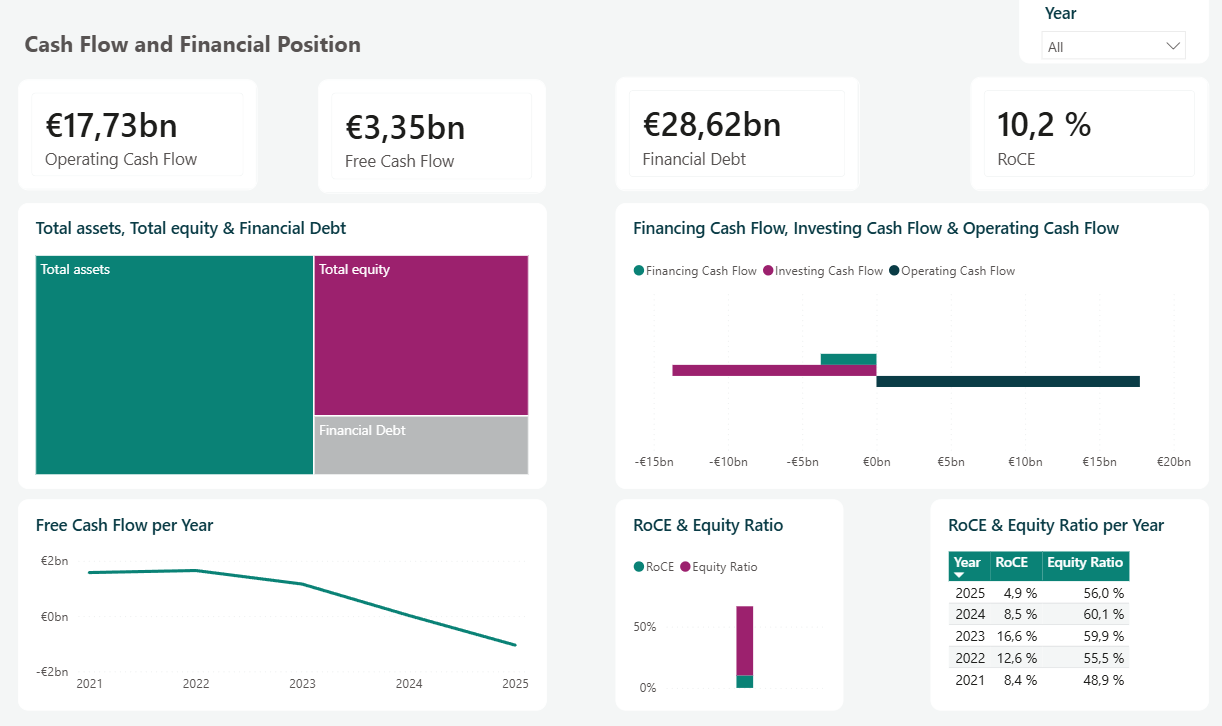

The dashboard page shown, as its layout file describes it:
{"tool":"powerbi","page":{"name":"Cash and Financial Position","canvas":[1280,720],"ordinal":3},"visuals":[{"type":"cardVisual","fields":{"Data":["Cash Flow Statement.Free Cash Flow"]},"box":[342.9,88.6,220,110],"z":0},{"type":"slicer","fields":{"Values":["Référence Date.Year"]},"box":[1020,0,182.9,72.9],"z":1000},{"type":"cardVisual","fields":{"Data":["Cash Flow Statement.Operating Cash Flow"]},"box":[52.9,88.3,231.4,107.1],"z":2000},{"type":"cardVisual","fields":{"Data":["Balance Sheet.Financial Debt"]},"box":[630,85.7,235.7,110],"z":3000},{"type":"cardVisual","fields":{"Data":["Balance Sheet.RoCE"]},"box":[972.9,85.7,230,110],"z":4000},{"type":"treemap","title":"Total assets, Total equity & Financial Debt","fields":{"Values":["Balance Sheet.Total assets","Balance Sheet.Total equity","Balance Sheet.Financial Debt"]},"box":[52.9,207.1,510,275.7],"z":5000},{"type":"clusteredBarChart","title":"Financing Cash Flow, Investing Cash Flow & Operating Cash Flow","fields":{"Y":["Cash Flow Statement.Financing Cash Flow","Cash Flow Statement.Investing Cash Flow","Cash Flow Statement.Operating Cash Flow"]},"box":[630,207.1,572.9,275.7],"z":6000},{"type":"lineChart","title":"Free Cash Flow per Year","fields":{"Category":["Cash Flow Statement.Year"],"Y":["Cash Flow Statement.Free Cash Flow"]},"box":[52.9,492.9,510,204.3],"z":7000},{"type":"ribbonChart","title":"RoCE & Equity Ratio","fields":{"Y":["Balance Sheet.RoCE","Balance Sheet.Equity Ratio"]},"box":[630,492.9,220,204.3],"z":8000},{"type":"tableEx","title":"RoCE & Equity Ratio per Year","fields":{"Values":["Balance Sheet.Year","Balance Sheet.RoCE","Balance Sheet.Equity Ratio"]},"box":[934.3,492.9,268.6,204.3],"z":9000},{"type":"textbox","box":[42.9,27.1,520,68.6],"z":10000}]}

Visuals, with their boxes on the page's 1280x720 design canvas (x1, y1, x2, y2). These are canvas units, not pixel positions in the 1222x726 screenshot, which may show the page scaled, cropped or inside an application window:
cardVisual - Cash Flow Statement.Free Cash Flow: locate(343, 89, 563, 199)
slicer - Référence Date.Year: locate(1020, 0, 1203, 73)
cardVisual - Cash Flow Statement.Operating Cash Flow: locate(53, 88, 284, 195)
cardVisual - Balance Sheet.Financial Debt: locate(630, 86, 866, 196)
cardVisual - Balance Sheet.RoCE: locate(973, 86, 1203, 196)
"Total assets, Total equity & Financial Debt" treemap: locate(53, 207, 563, 483)
"Financing Cash Flow, Investing Cash Flow & Operating Cash Flow" clusteredBarChart: locate(630, 207, 1203, 483)
"Free Cash Flow per Year" lineChart: locate(53, 493, 563, 697)
"RoCE & Equity Ratio" ribbonChart: locate(630, 493, 850, 697)
"RoCE & Equity Ratio per Year" tableEx: locate(934, 493, 1203, 697)
textbox: locate(43, 27, 563, 96)
